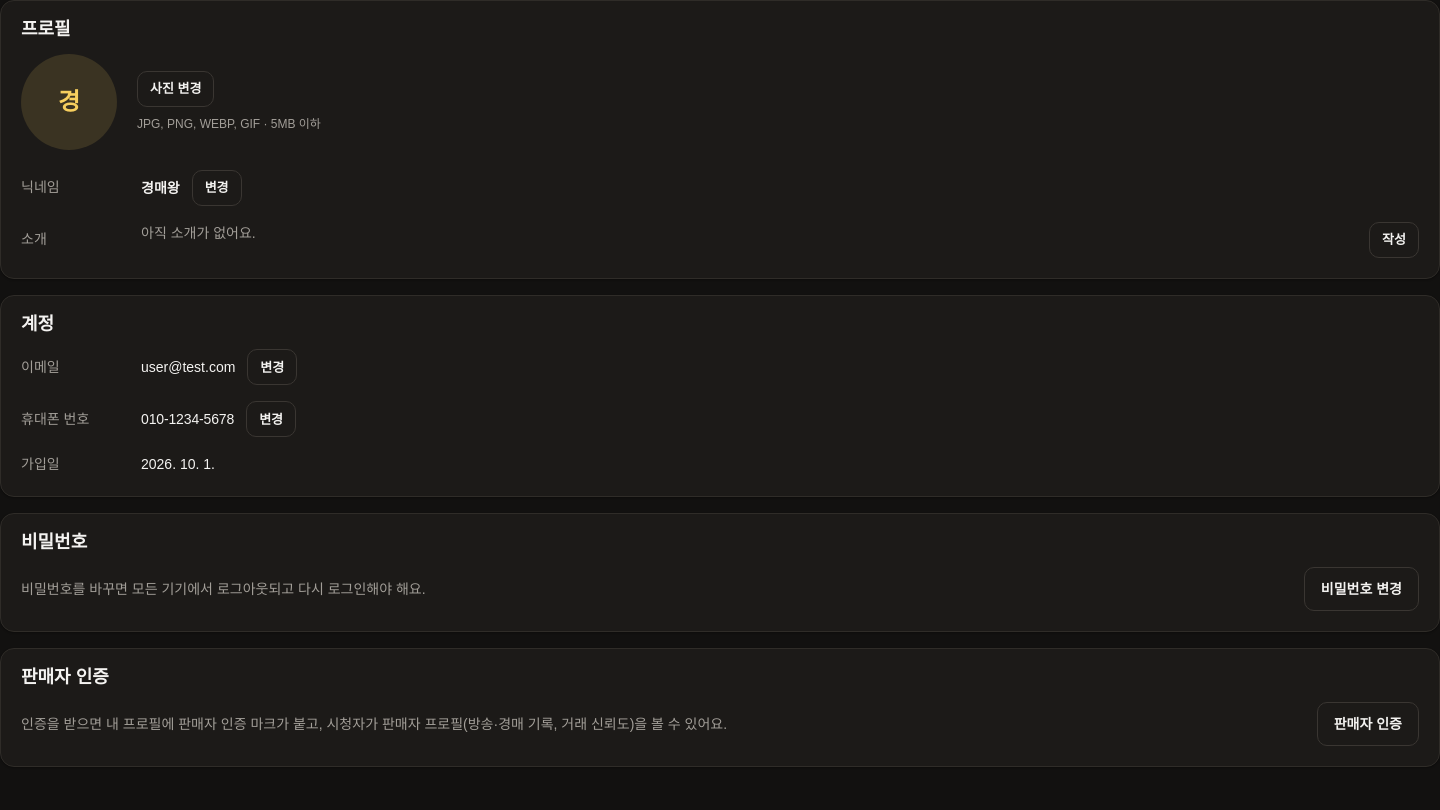
Test case: MyInfoContent 닉네임 변경 › 서버가 아직 못 바꾼다고 하면(USER_005) 입력 아래에 안내한다
Click the button "변경" next to "경매왕" at coordinates (217, 188), box [192, 170, 242, 206]
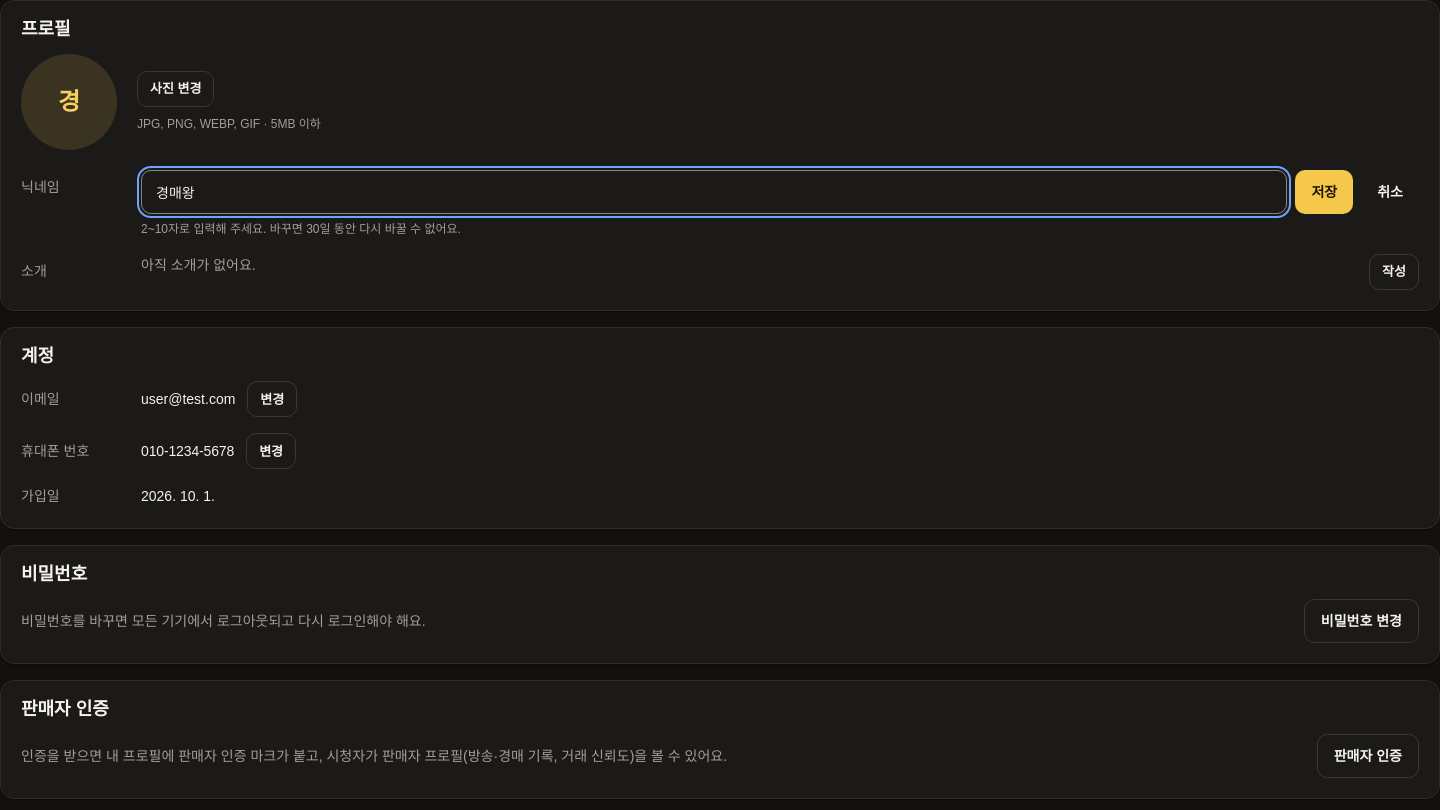
Type "2" into the field named "새 닉네임" at coordinates (714, 192), box [141, 170, 1288, 214]
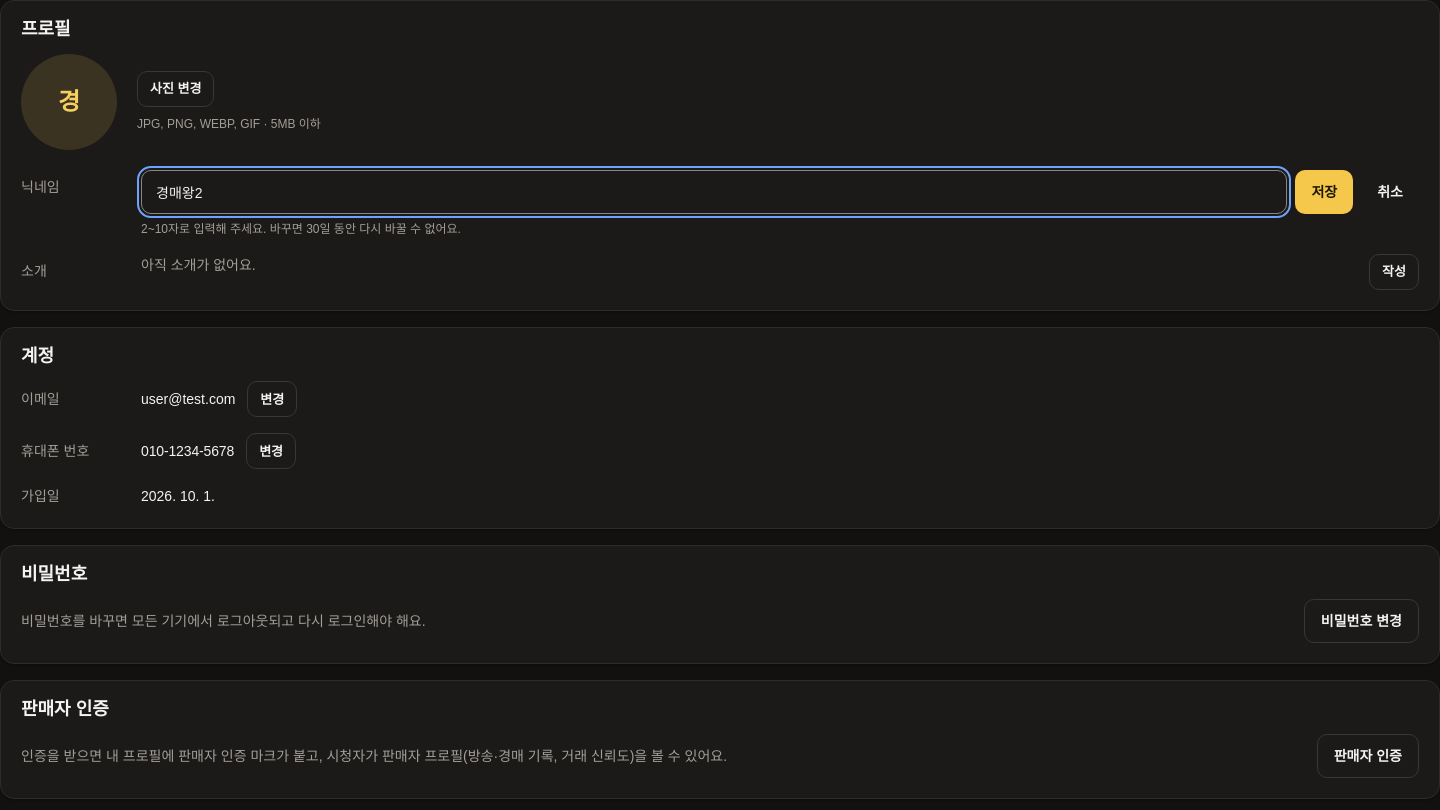
Click the button "저장" at coordinates (1324, 192), box [1296, 170, 1353, 214]
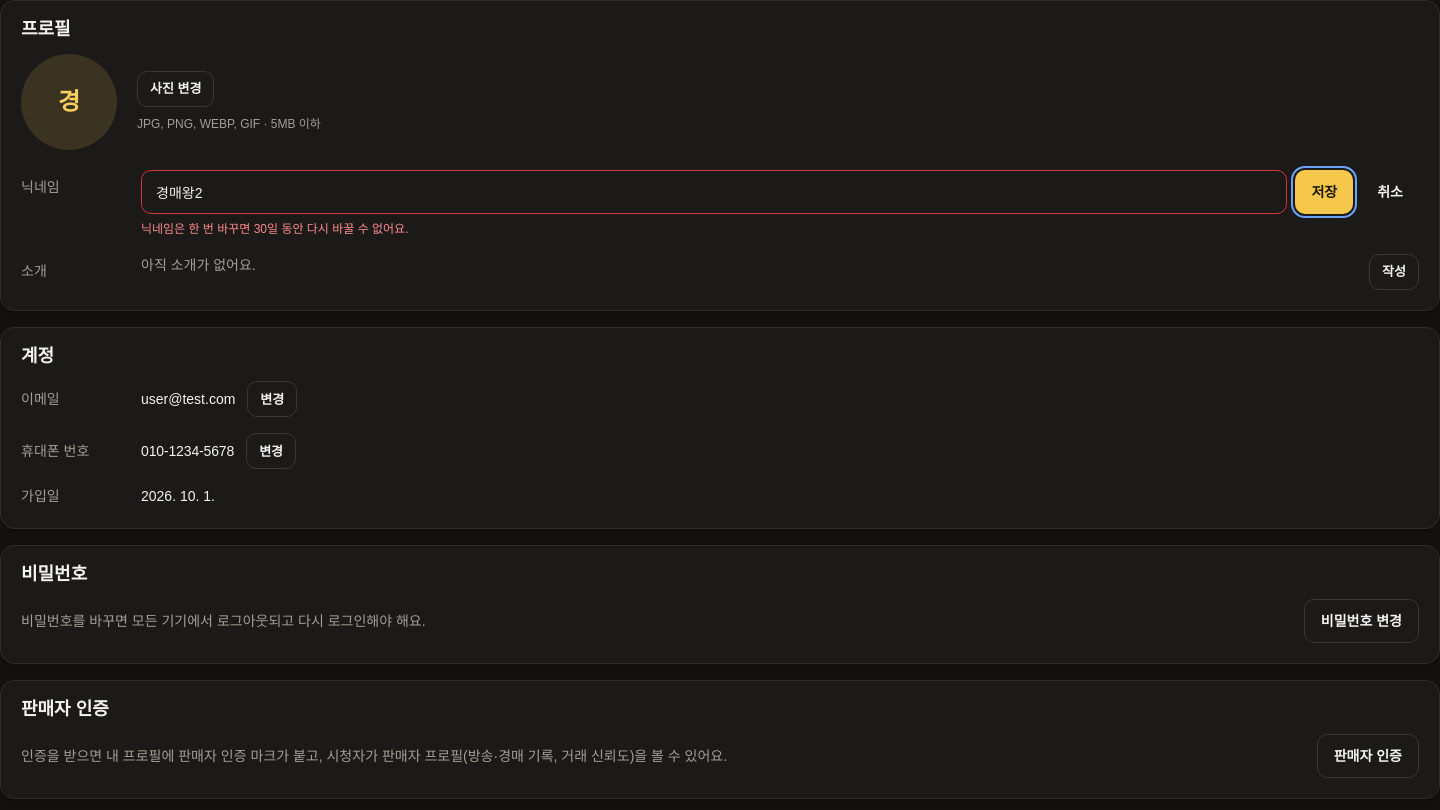
expect the text "닉네임은 한 번 바꾸면 30일 동안 다시 바꿀 수 없어요." is shown: met, box [141, 222, 408, 236]
